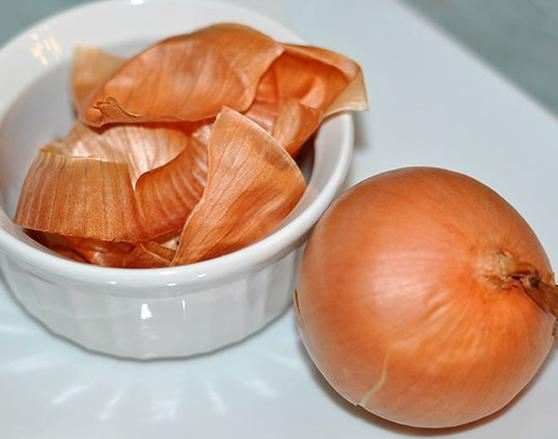onion: (303, 161, 551, 436)
